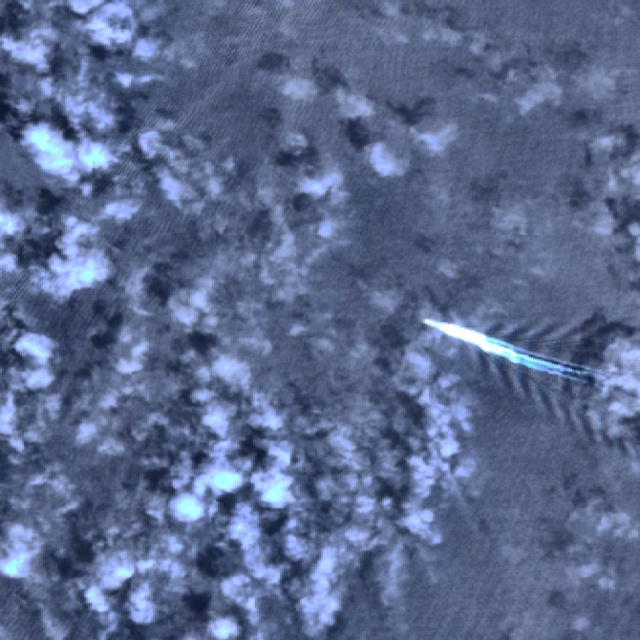wake: (400, 266, 606, 430)
